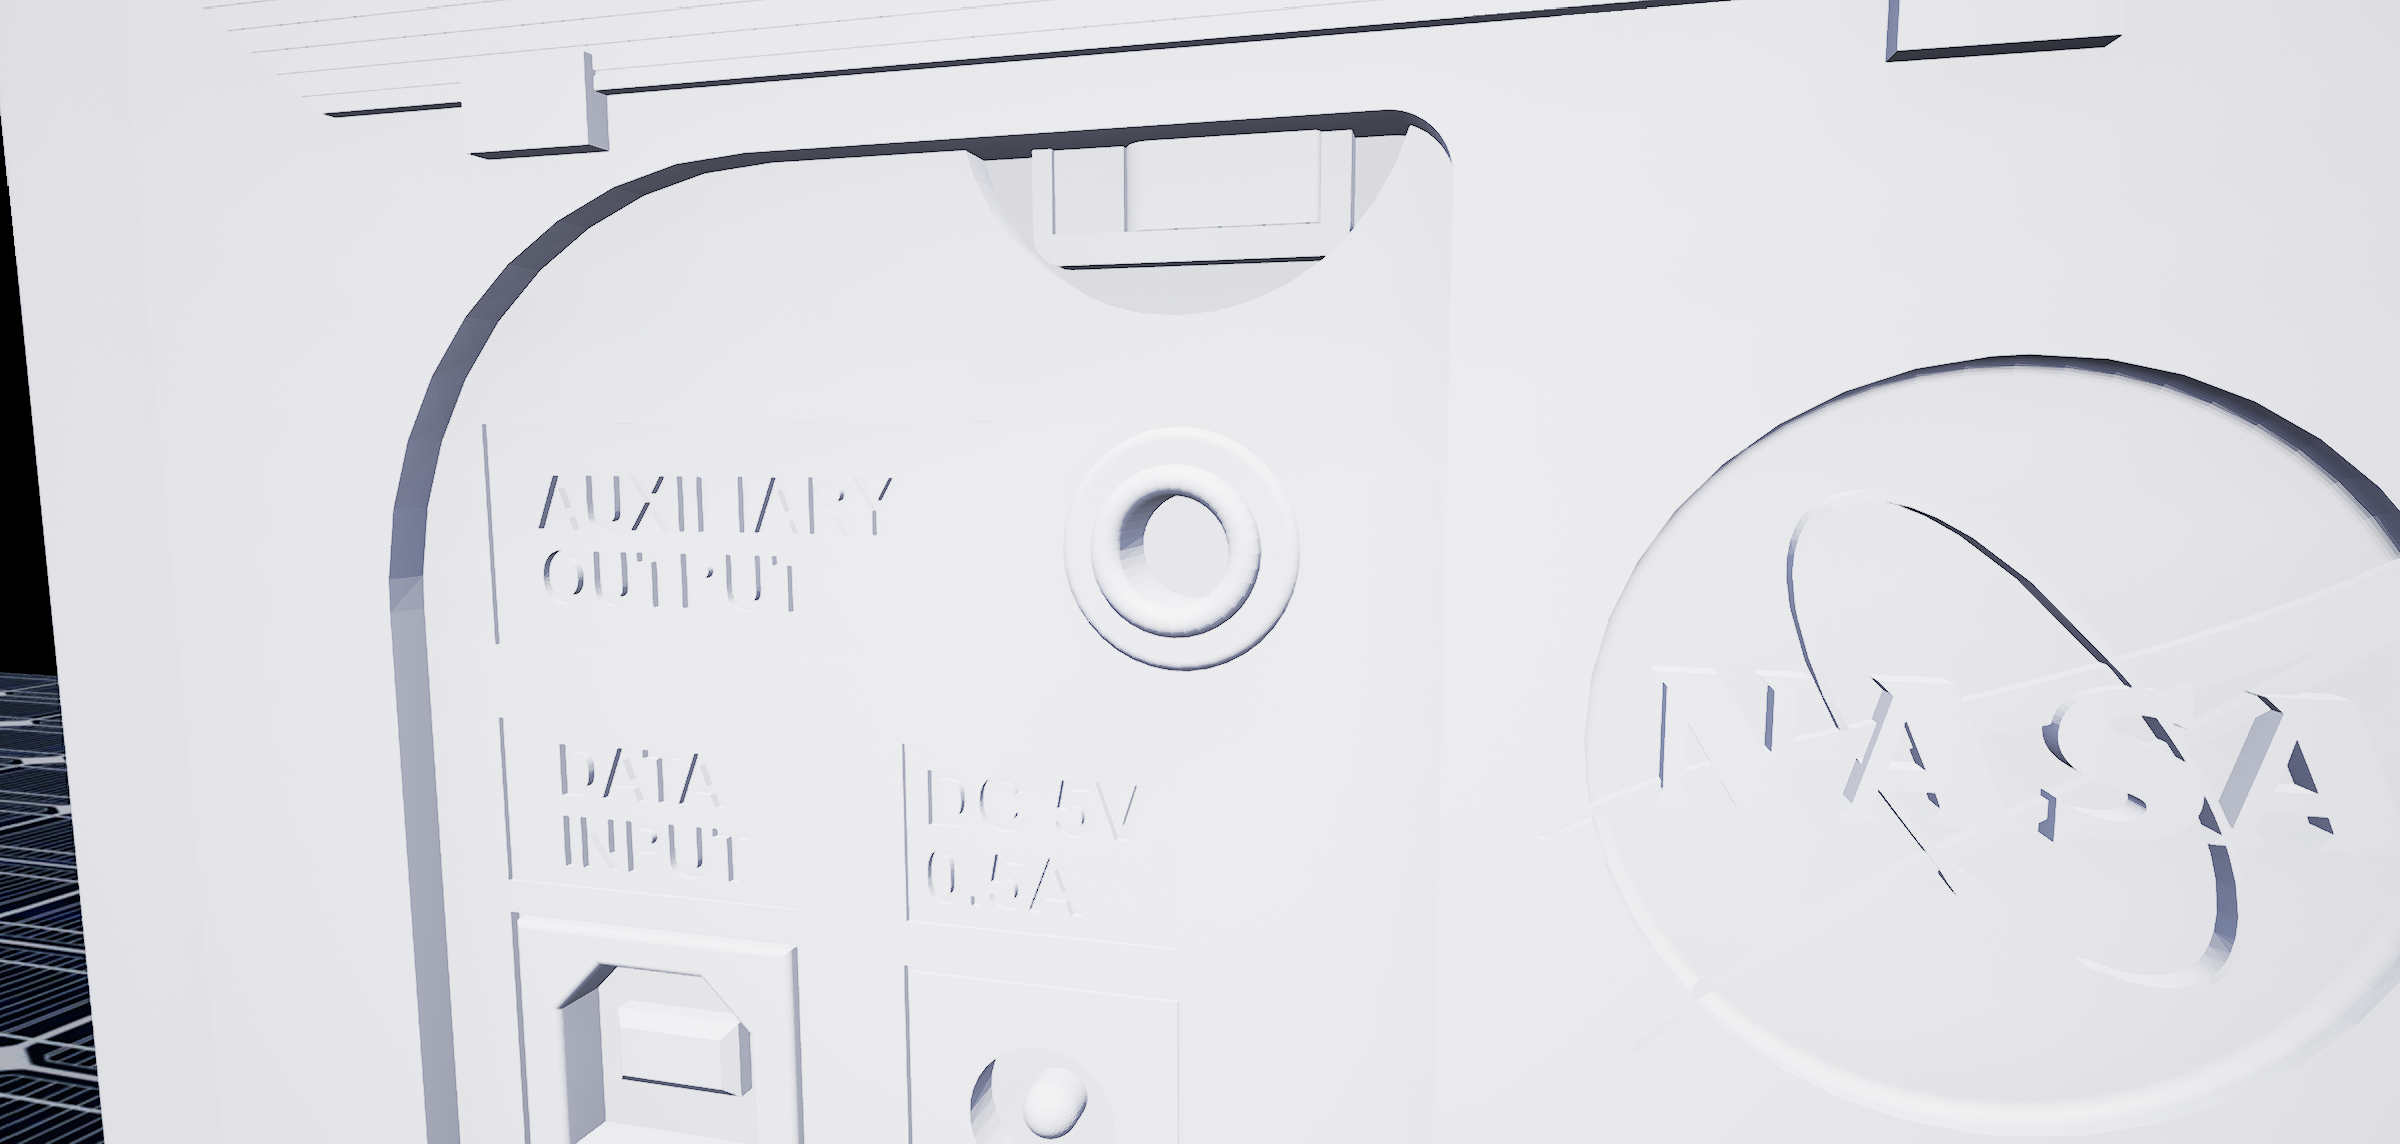aux: (1041, 417, 1355, 685)
dc: (951, 1029, 1130, 1144)
usb: (553, 957, 774, 1144)
